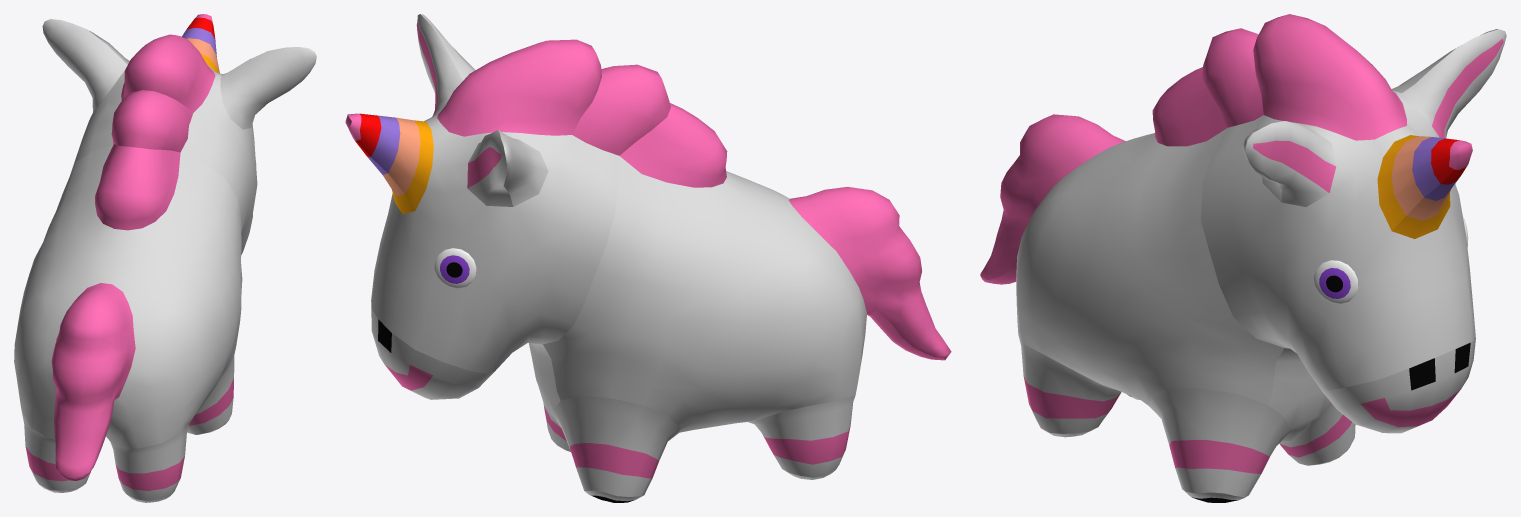
Rendered from unicorn.glb.
3 views of the same model, side by side, from view 1: azimuth 30°, elevation 25°; view 2: azimuth 150°, elevation 25°; view 3: azimuth 270°, elevation 25° (orthographic). The views are drawn at different scales.
Visible parts, largest first — view 1: Plush Unicorn; view 2: Plush Unicorn; view 3: Plush Unicorn.
Boxes of the visible parts, x1=… form: Plush Unicorn: x1=14, y1=14, x2=316, y2=502; Plush Unicorn: x1=345, y1=14, x2=951, y2=502; Plush Unicorn: x1=980, y1=14, x2=1506, y2=502.
Size of the model in its own units: 1.64 by 1.63 by 1.64.
